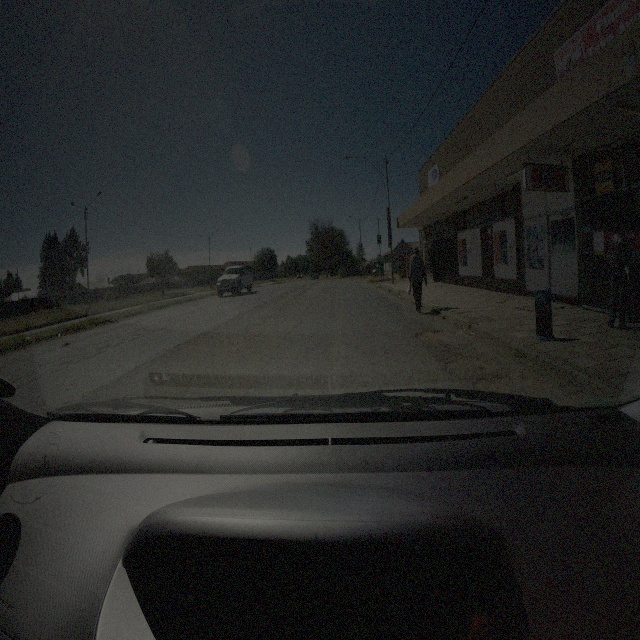pothole: (468, 372, 516, 396), (414, 328, 450, 343)
